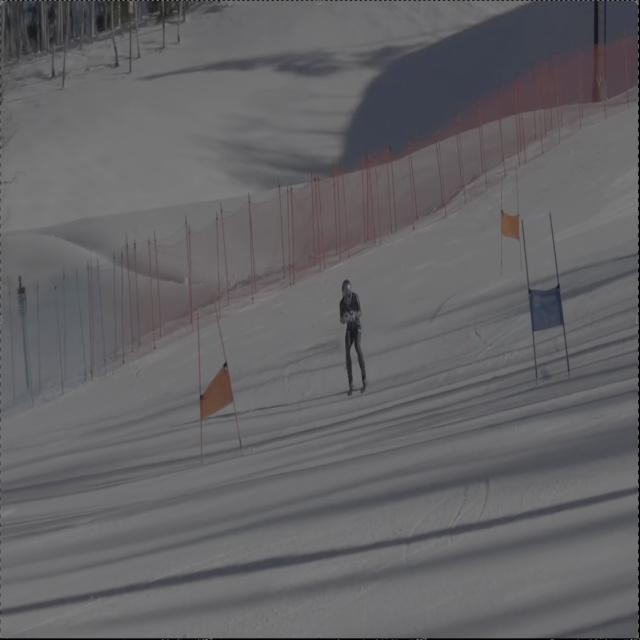gate: (212, 303, 250, 460), (544, 209, 576, 379), (511, 220, 544, 384), (194, 312, 208, 468)
